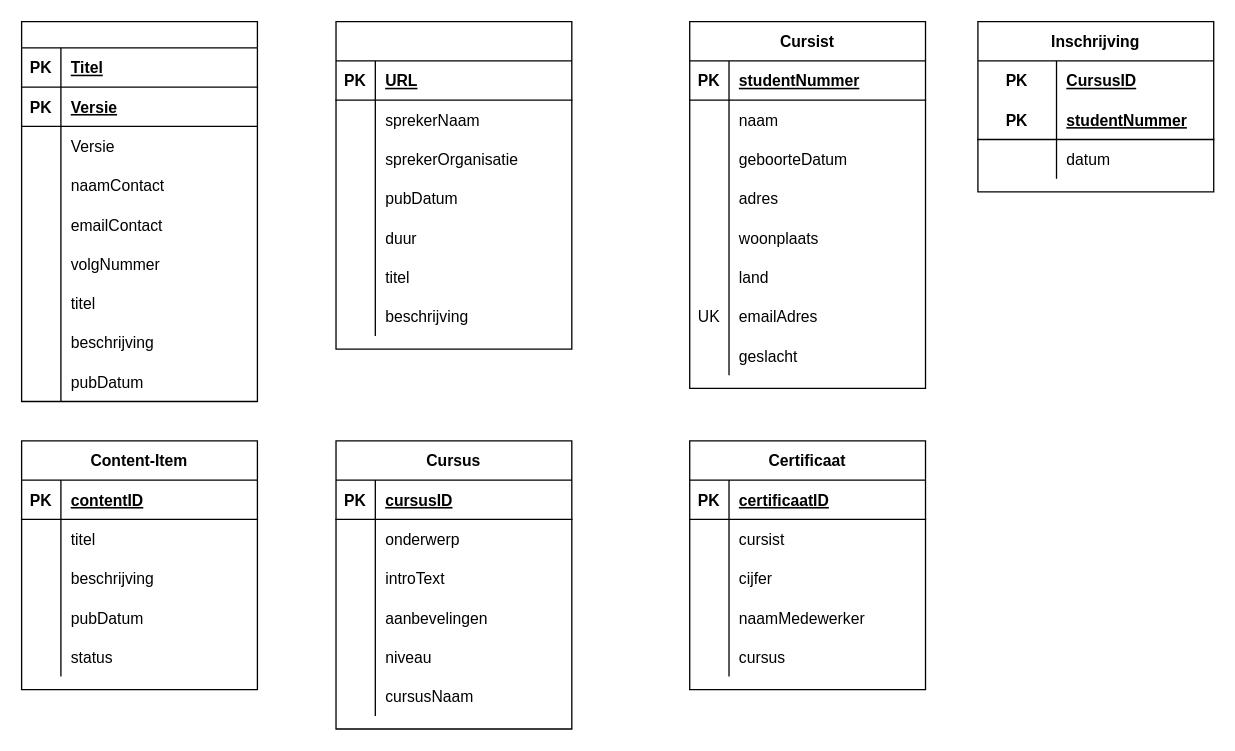
The diagram is 1235 pixels wide and 751 high, and some of its shapes have lost their labels. The box of each missing label's shape, as (x1, y1, x2, y2) in pixels:
Module: (20, 20, 257, 402)
Webcast: (335, 20, 572, 349)
